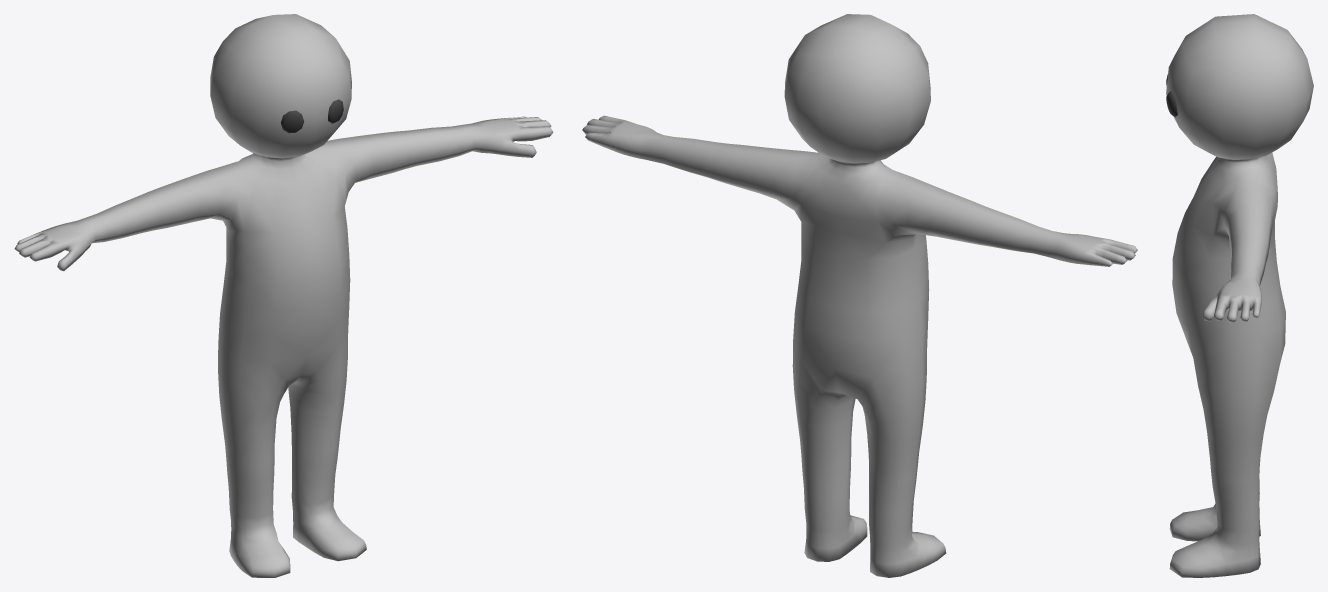
File: Body_White_002.glb
The picture shows the model from 3 angles, left to right: view 1: azimuth 30°, elevation 25°; view 2: azimuth 150°, elevation 25°; view 3: azimuth 270°, elevation 25°; orthographic projection. The views are drawn at different scales.
Visible parts, largest first — view 1: Body_White_002; view 2: Body_White_002; view 3: Body_White_002.
Boxes of the visible parts, <box> form: Body_White_002: <box>14,14,553,577</box>; Body_White_002: <box>582,14,1137,577</box>; Body_White_002: <box>1166,14,1313,577</box>.
Bounding box in the file's own units: 1.82 × 1.71 × 0.4335.
1 material, 1 textured.
